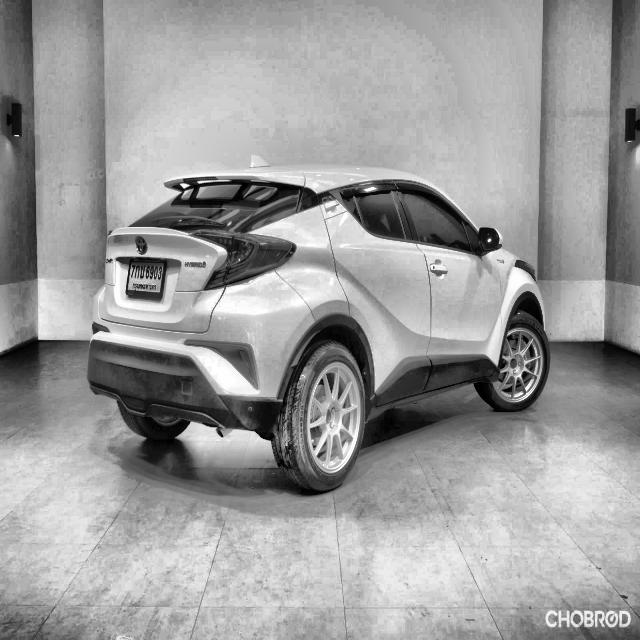license-plate: (116, 256, 176, 306)
